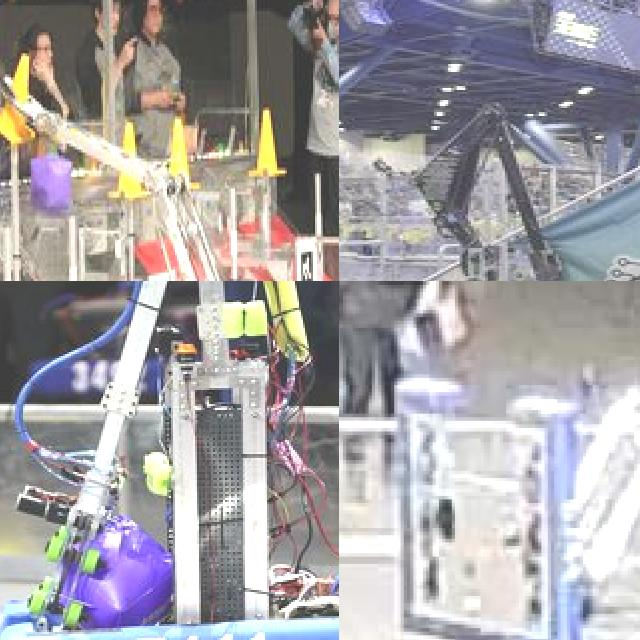FRC-Robots: (0, 281, 339, 640), (377, 317, 640, 640), (0, 47, 339, 281), (344, 91, 606, 281)
